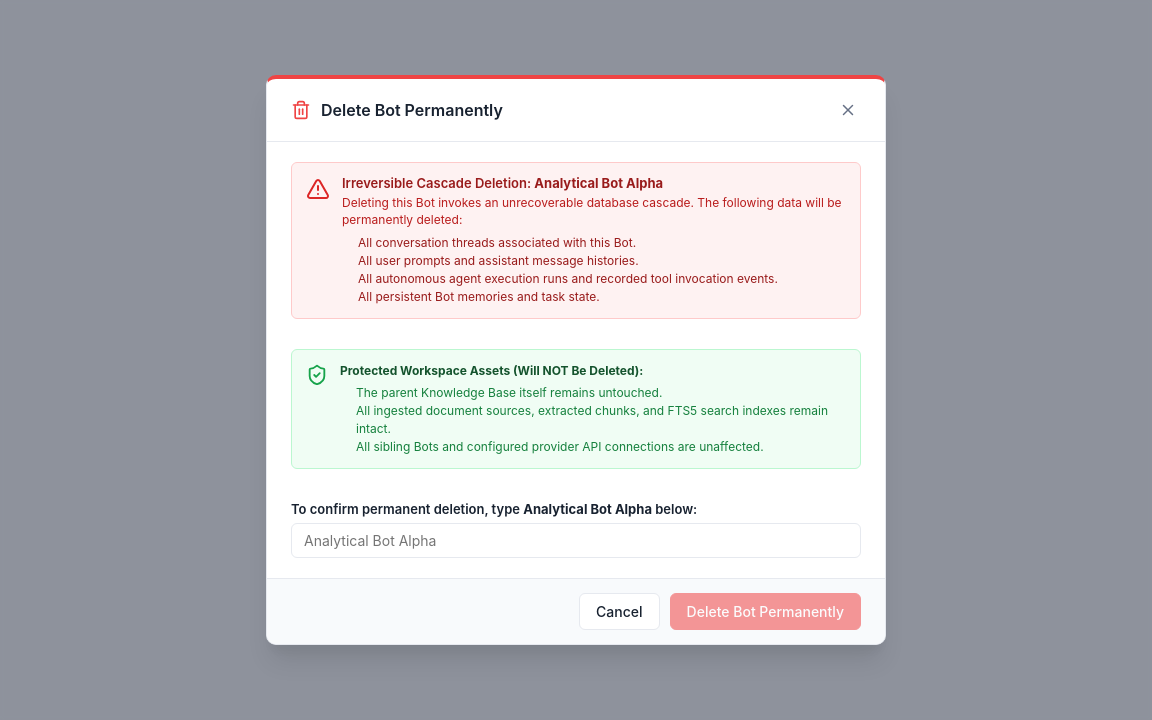
Renderer: BotDeleteDialog (Phase 6 Step 6.5) › 3. disables delete button until user types the exact Bot name
Expected: the button with test id "delete-bot-confirm-btn" is disabled, [670,593,861,630]
Note: Type partial or wrong name
Type "Analytical Bot" into the field with test id "confirm-delete-bot-input" at {"x": 576, "y": 540}, box [291,523,861,558]
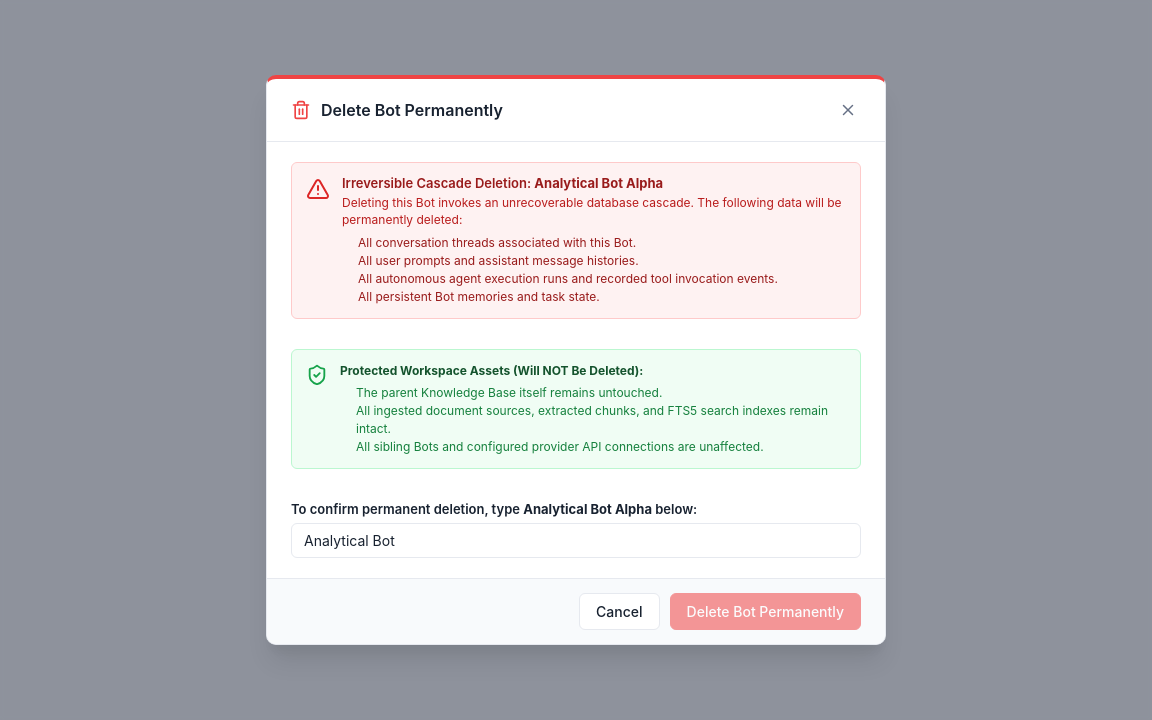
Expected: the button with test id "delete-bot-confirm-btn" is disabled, [670,593,861,630]
Note: Type exact matching name
Replace the text in the field with test id "confirm-delete-bot-input" with "Analytical Bot Alpha" at {"x": 576, "y": 540}, box [291,523,861,558]
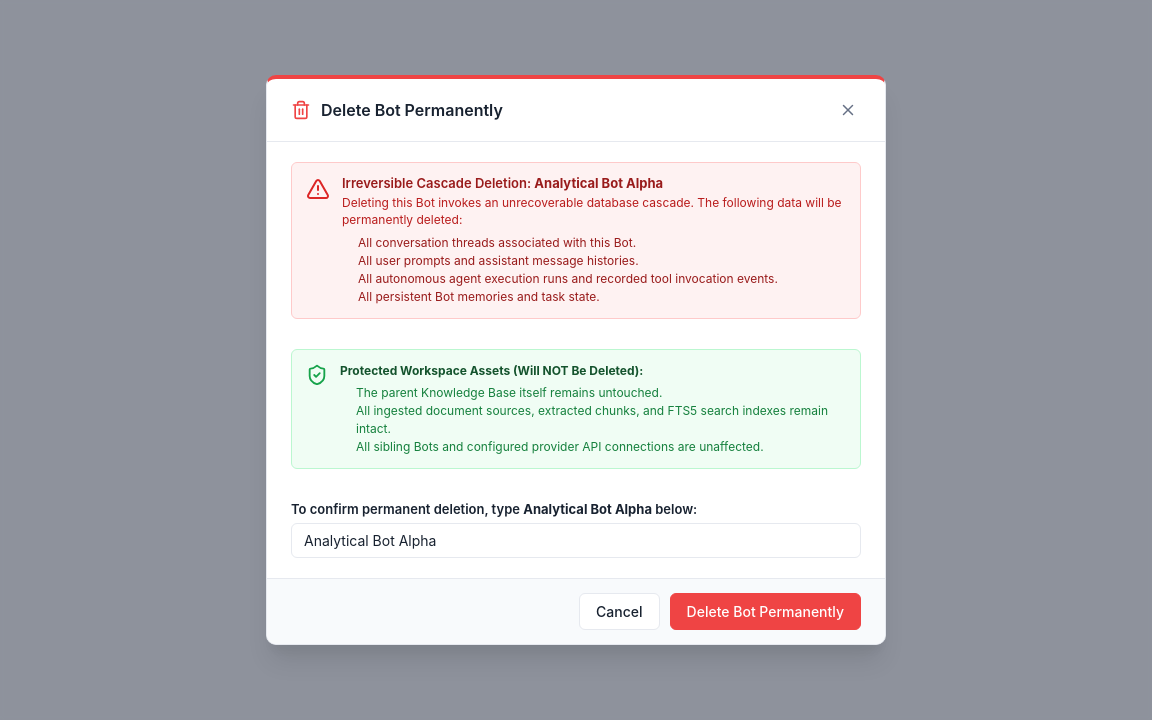
Expected: the button with test id "delete-bot-confirm-btn" is enabled, [670,593,861,630]
Note: Clear name
Clear the field with test id "confirm-delete-bot-input" at {"x": 576, "y": 540}, box [291,523,861,558]
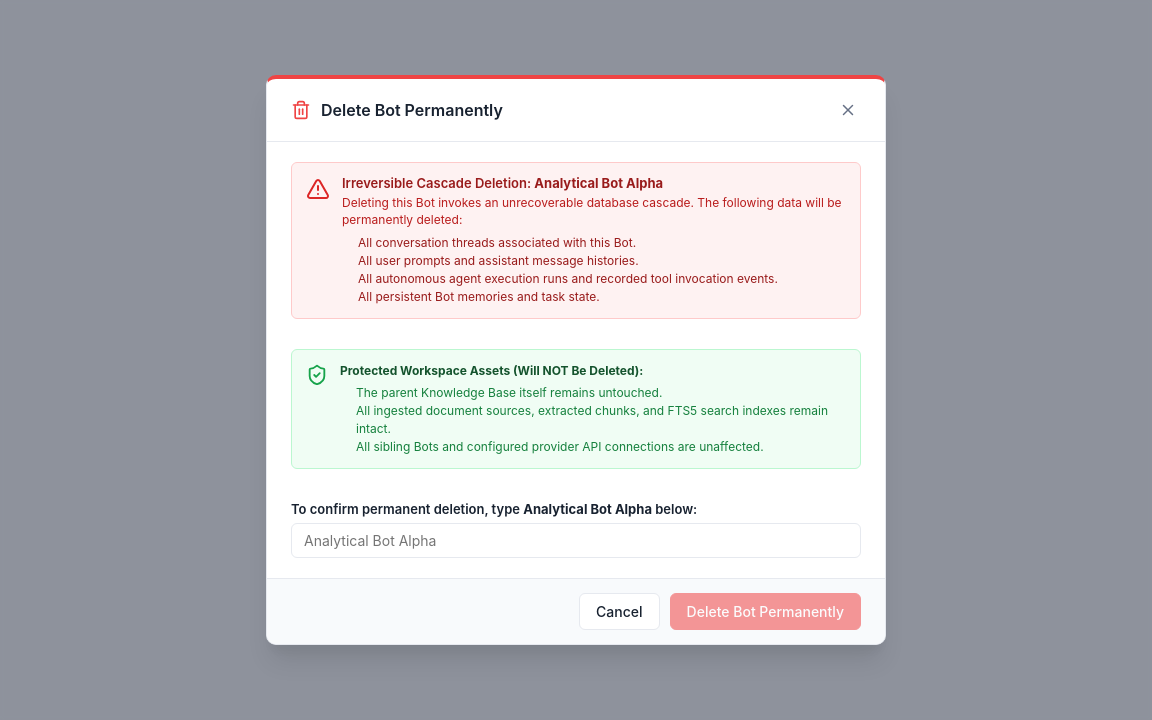
Expected: the button with test id "delete-bot-confirm-btn" is disabled, [670,593,861,630]
